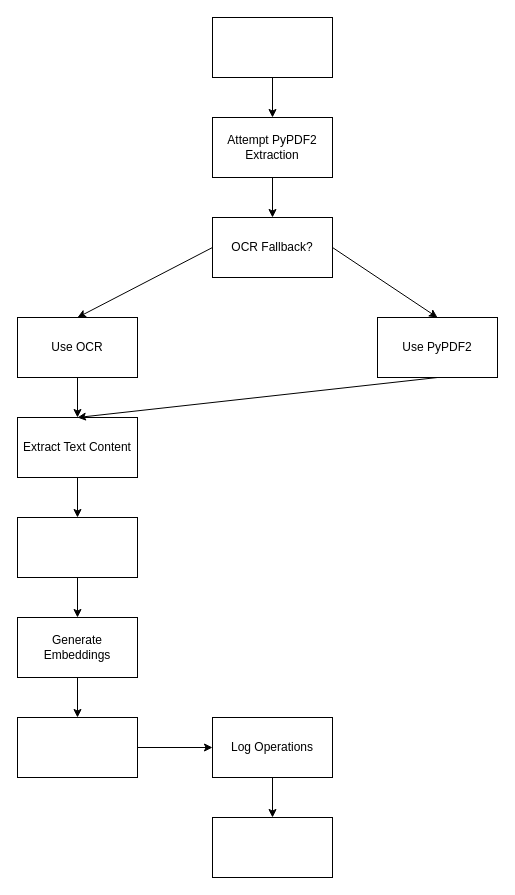
Image size: 515x895. Some labels were removed from this diagram. Here are the shapes that lost their labels. From the top down, the box of each, then its label:
(212, 16, 332, 78): Phase 2 Complete
(16, 516, 138, 578): Chunk Text
(16, 716, 138, 778): Store in Vector DB
(212, 816, 332, 878): Phase 3 Complete
